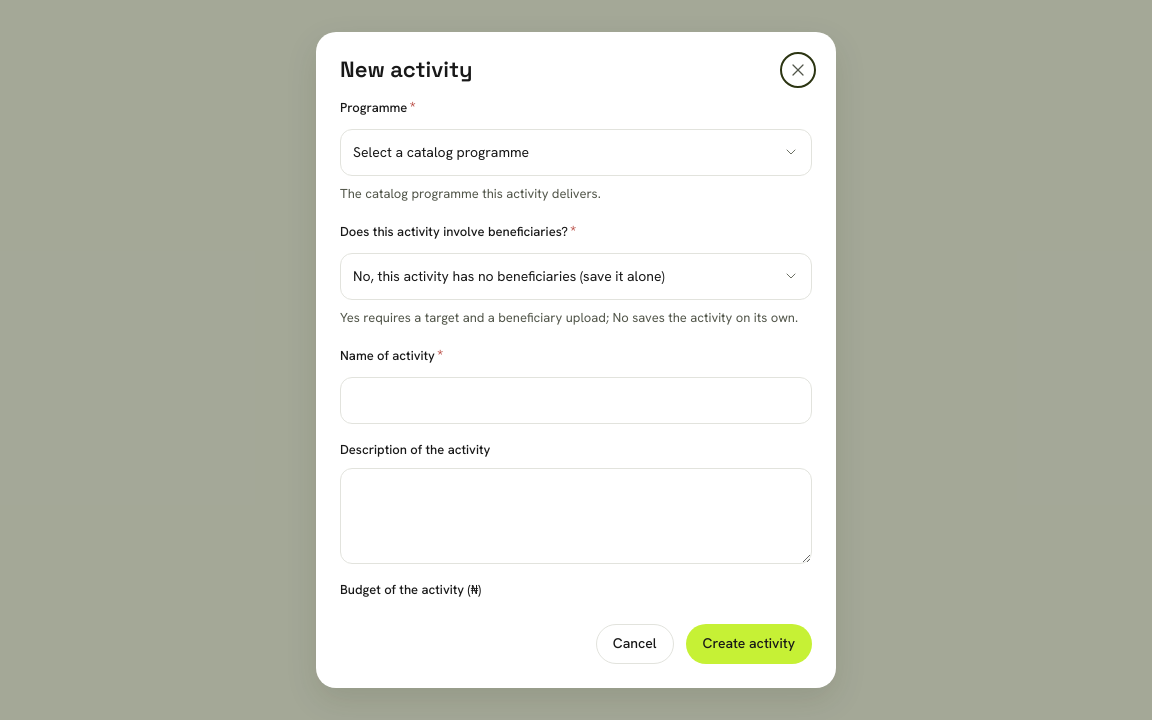
Test case: ActivityFormModal › makes the catalog programme dropdown the first field and requires it
# Default is "No" → the action creates the activity alone, but still needs a programme.
Type "Q1 Round" into the field labelled "Name of activity" at point(576, 400), box [340,377,812,424]
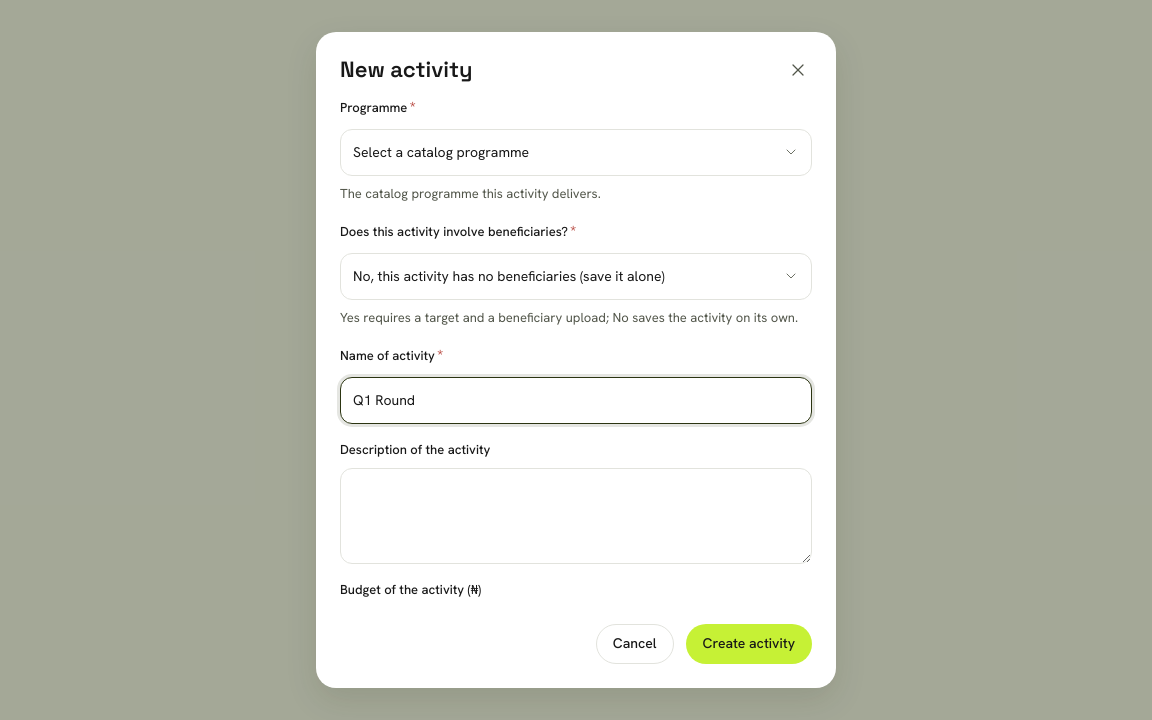
Click the button "Create activity" at point(749, 644), box [686,624,812,664]
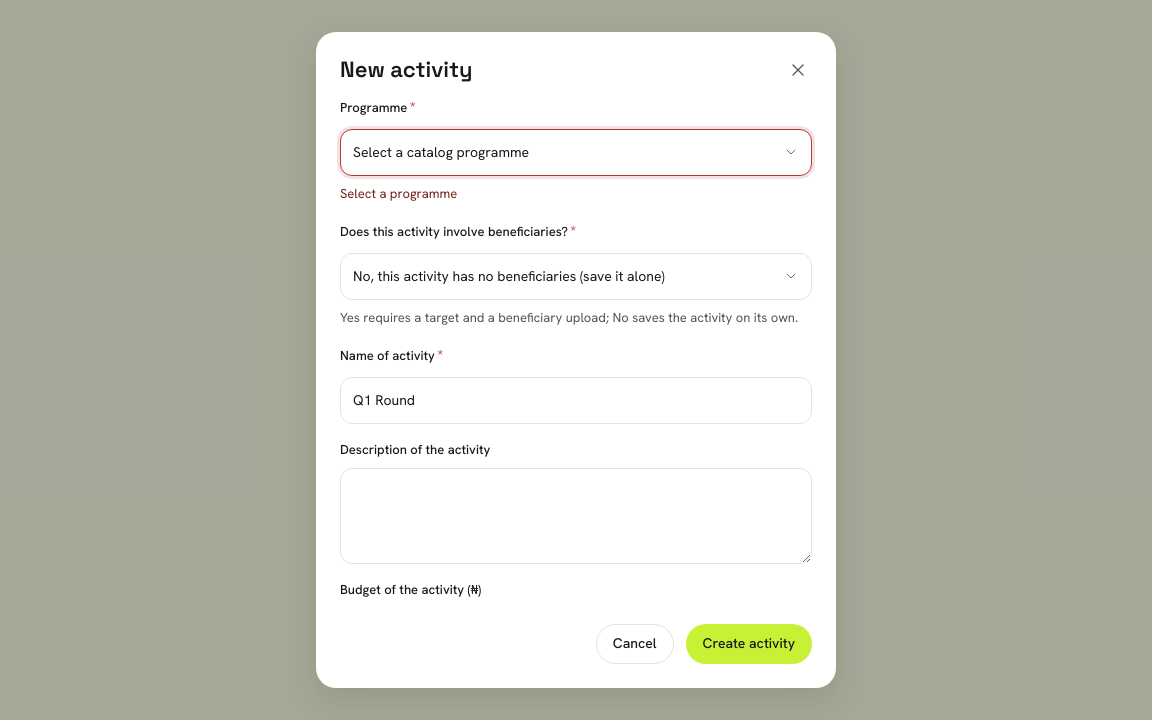
Expected: the text "Select a programme" is shown, [340,185,457,202]
